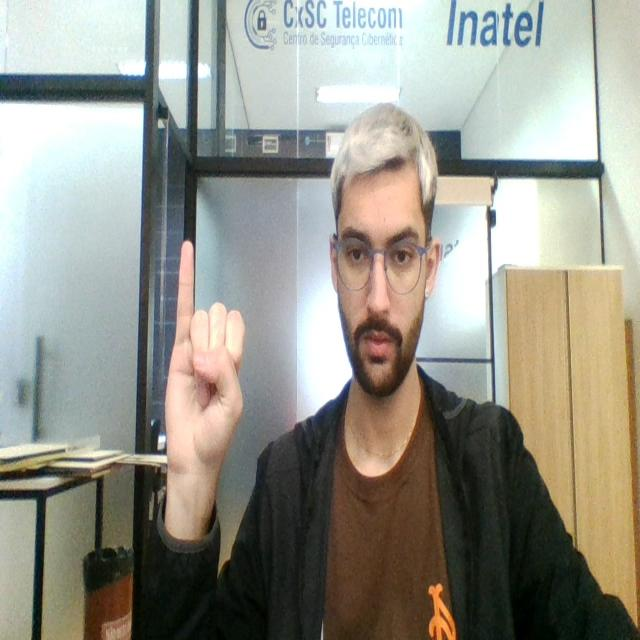I: (158, 238, 248, 486)
